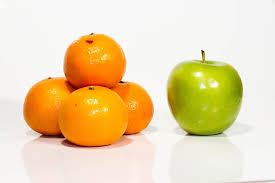apel: (167, 52, 244, 141)
